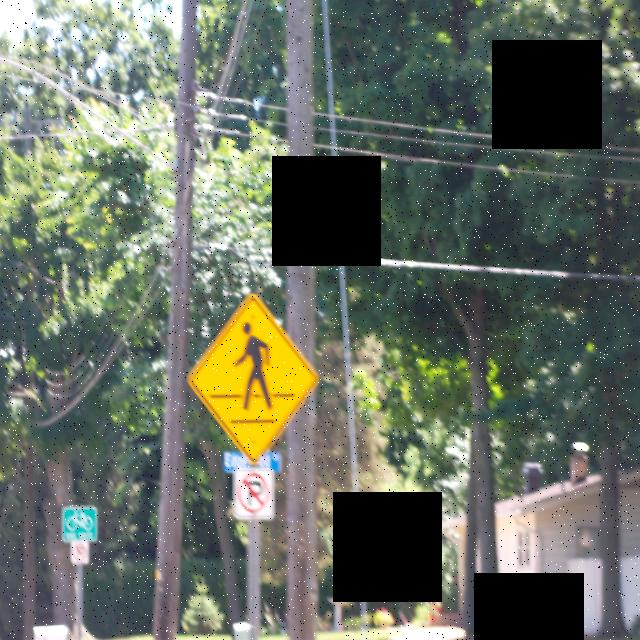regulatory: (226, 459, 282, 529), (70, 537, 90, 567)
warning: (184, 279, 323, 464)
